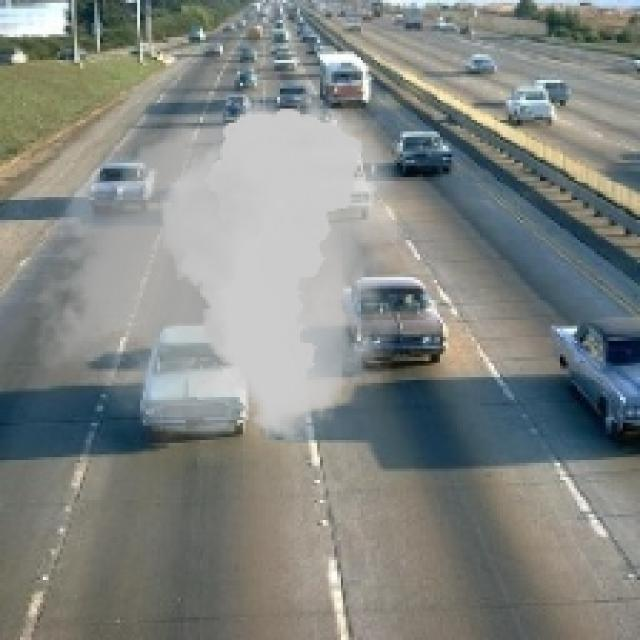smoke: (11, 83, 432, 466)
